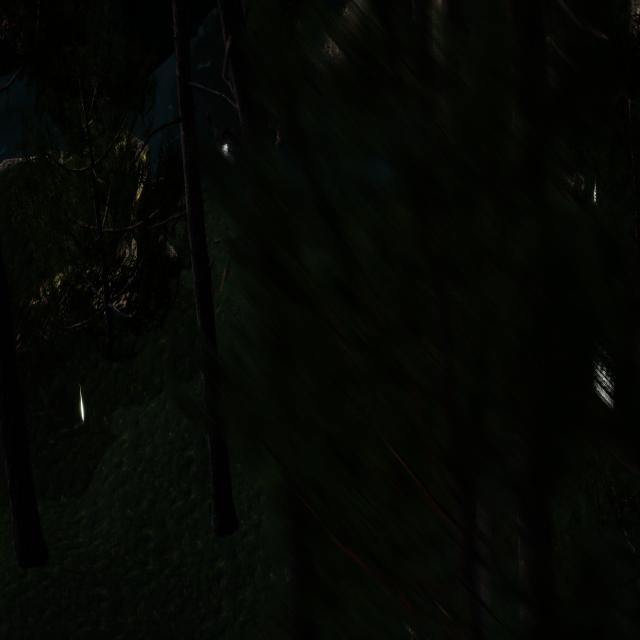Human: (182, 108, 244, 182)
